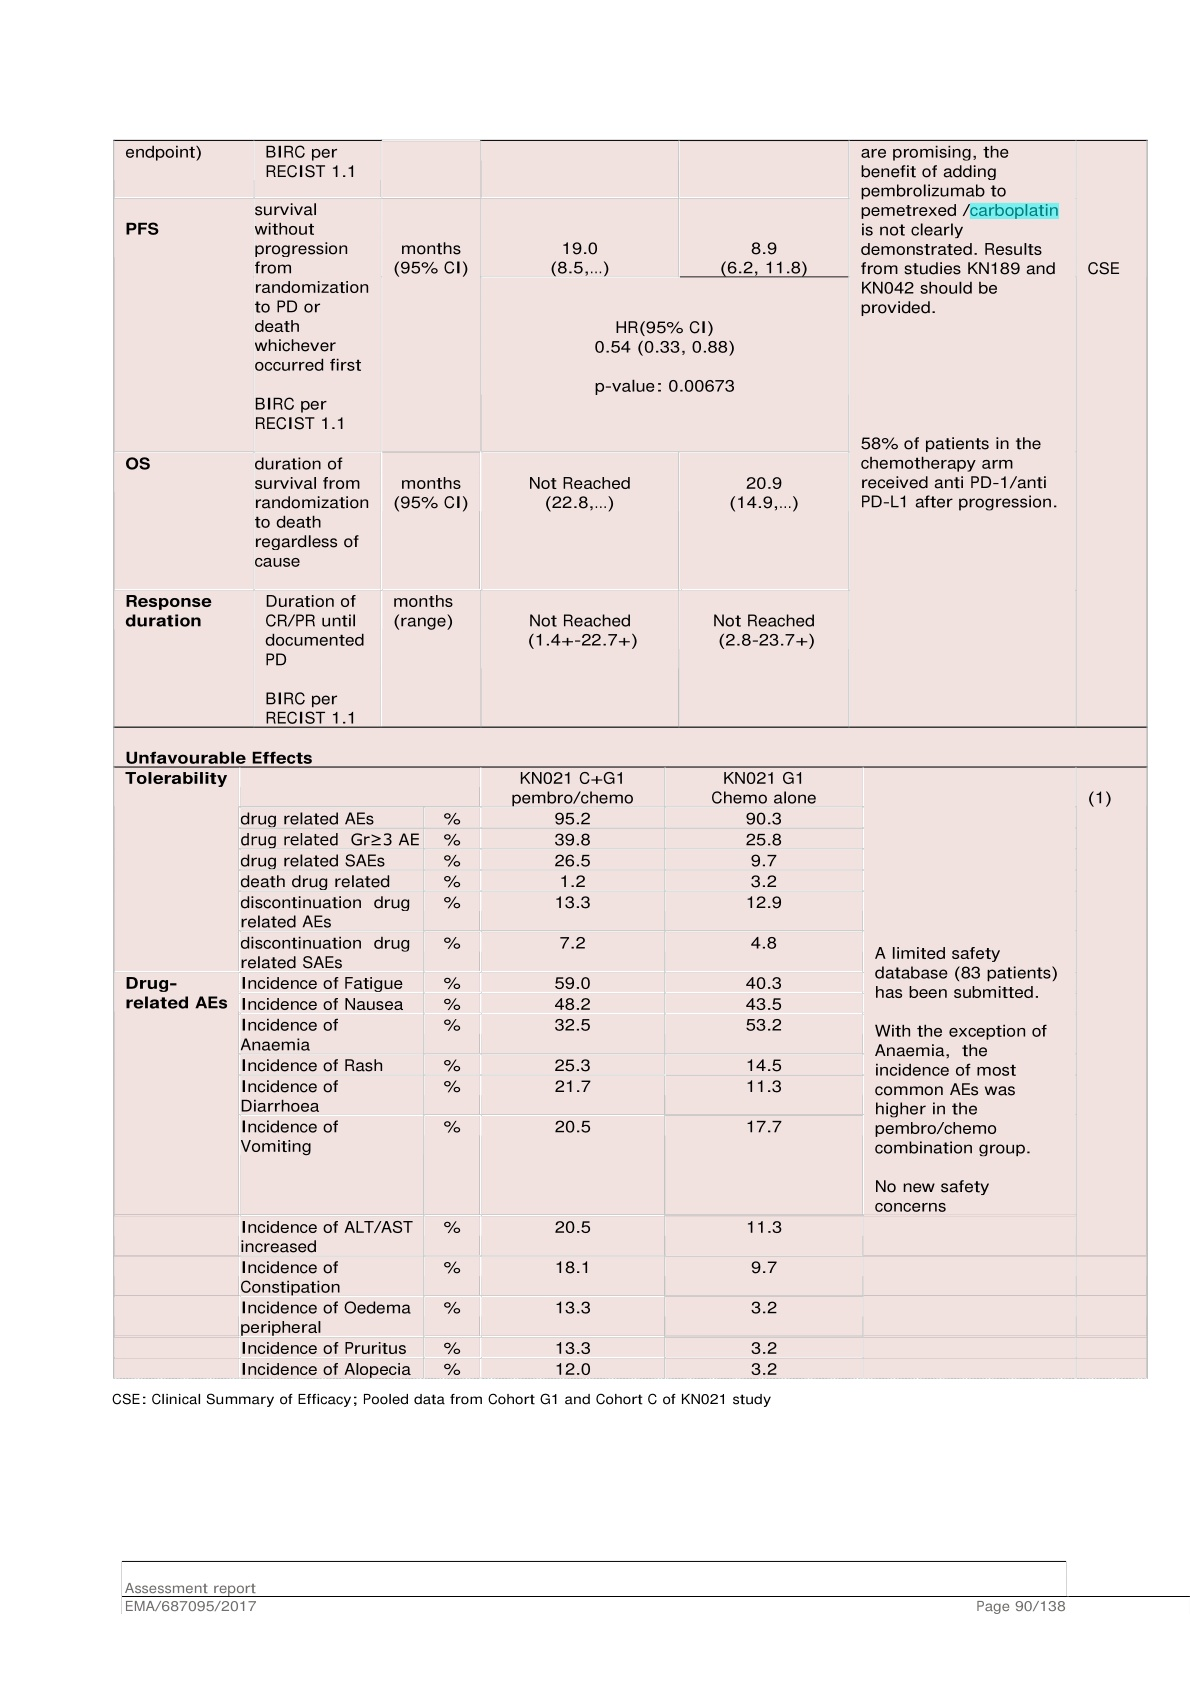merged_cells: (112, 138, 1150, 1381)
